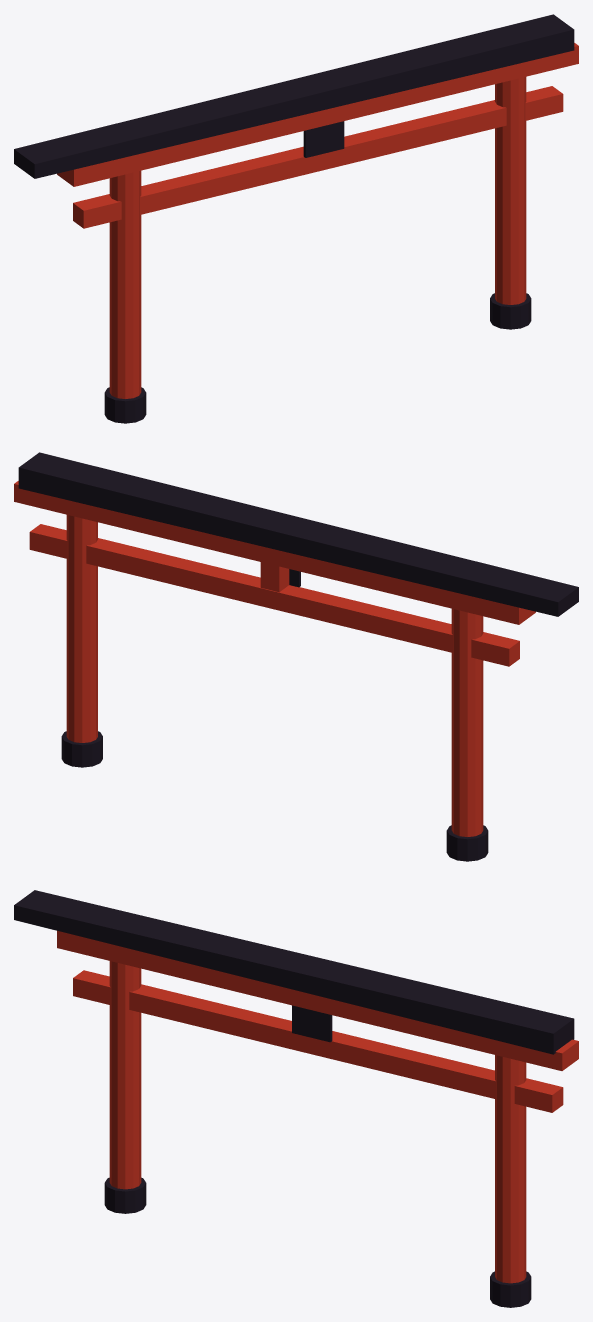
The model's file is torii.glb.
The picture shows the model from 3 angles, top to bottom: view 1: azimuth 30°, elevation 25°; view 2: azimuth 150°, elevation 25°; view 3: azimuth 330°, elevation 25°; orthographic projection.
Visible parts, largest first — view 1: torii; view 2: torii; view 3: torii.
Boxes of the visible parts, left/top/right/bottom form: torii: left=14, top=14, right=578, bottom=423; torii: left=14, top=452, right=578, bottom=861; torii: left=14, top=890, right=578, bottom=1307.
Bounding box in the file's own units: 12.76 × 6.38 × 0.84.
